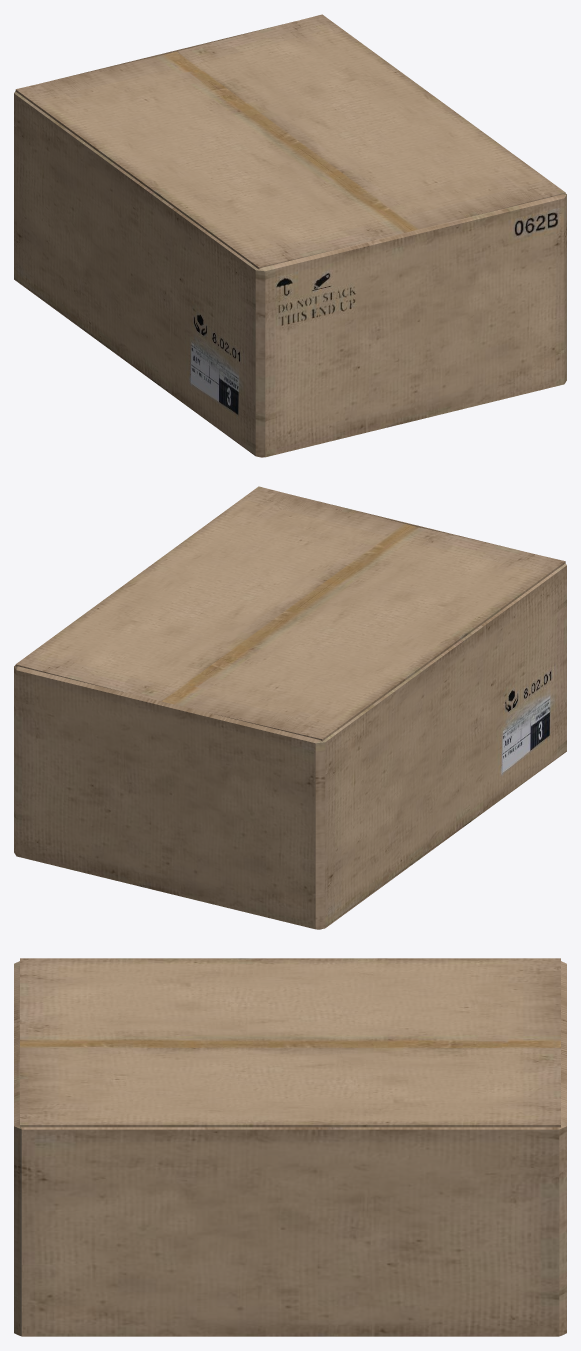
3 renders of one model, top to bottom at view 1: azimuth 30°, elevation 25°; view 2: azimuth 150°, elevation 25°; view 3: azimuth 270°, elevation 25°, orthographic. The views are drawn at different scales.
Parts seen in each view (by area): view 1: group_1, group_2, group_3; view 2: group_1, group_2, group_3; view 3: group_1, group_3, group_2.
Boxes of the visible parts, <box> form: group_1: <box>14,24,566,457</box>; group_2: <box>169,14,565,230</box>; group_3: <box>15,53,411,269</box>; group_1: <box>14,498,566,929</box>; group_2: <box>15,486,411,703</box>; group_3: <box>170,525,565,741</box>; group_1: <box>14,961,566,1336</box>; group_3: <box>20,958,560,1043</box>; group_2: <box>20,1043,560,1127</box>.
Size of the model in its own units: 1.01 by 1.4 by 0.5907.
